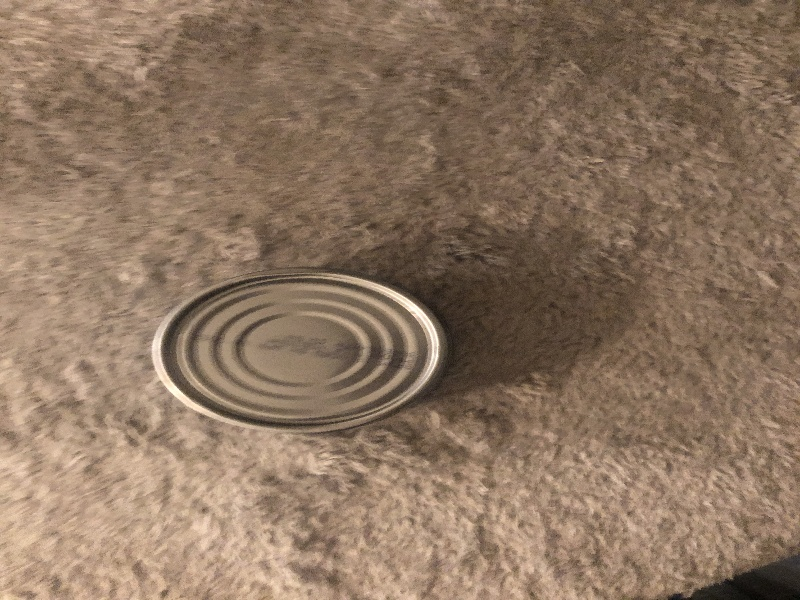metal: (147, 262, 451, 440)
